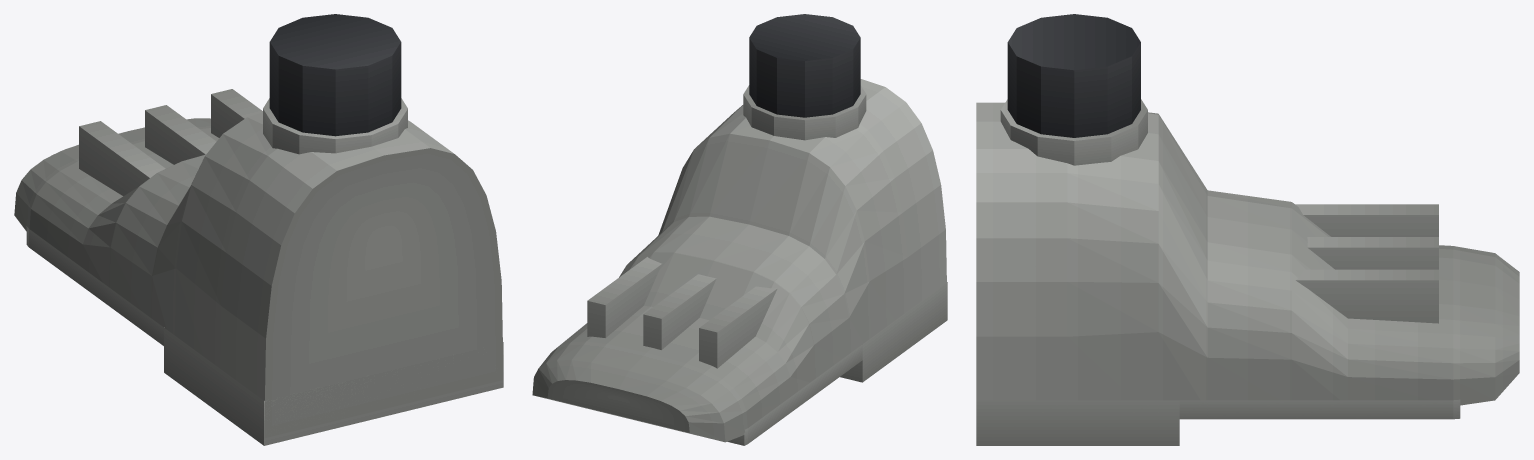
File: streetlight_ltgcj.obj
3 renders of one model, left to right at view 1: azimuth 30°, elevation 25°; view 2: azimuth 150°, elevation 25°; view 3: azimuth 270°, elevation 25°, orthographic. The views are drawn at different scales.
Visible parts, largest first — view 1: fixture; view 2: fixture; view 3: fixture.
Boxes of the visible parts, left/top/right/bottom form: fixture: left=14, top=14, right=503, bottom=445; fixture: left=532, top=14, right=947, bottom=445; fixture: left=976, top=14, right=1519, bottom=445.
Bounding box in the file's own units: 0.25 × 0.3387 × 0.4844.
